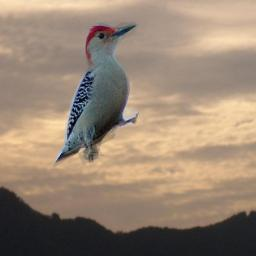Woodpecker: (52, 22, 139, 167)
